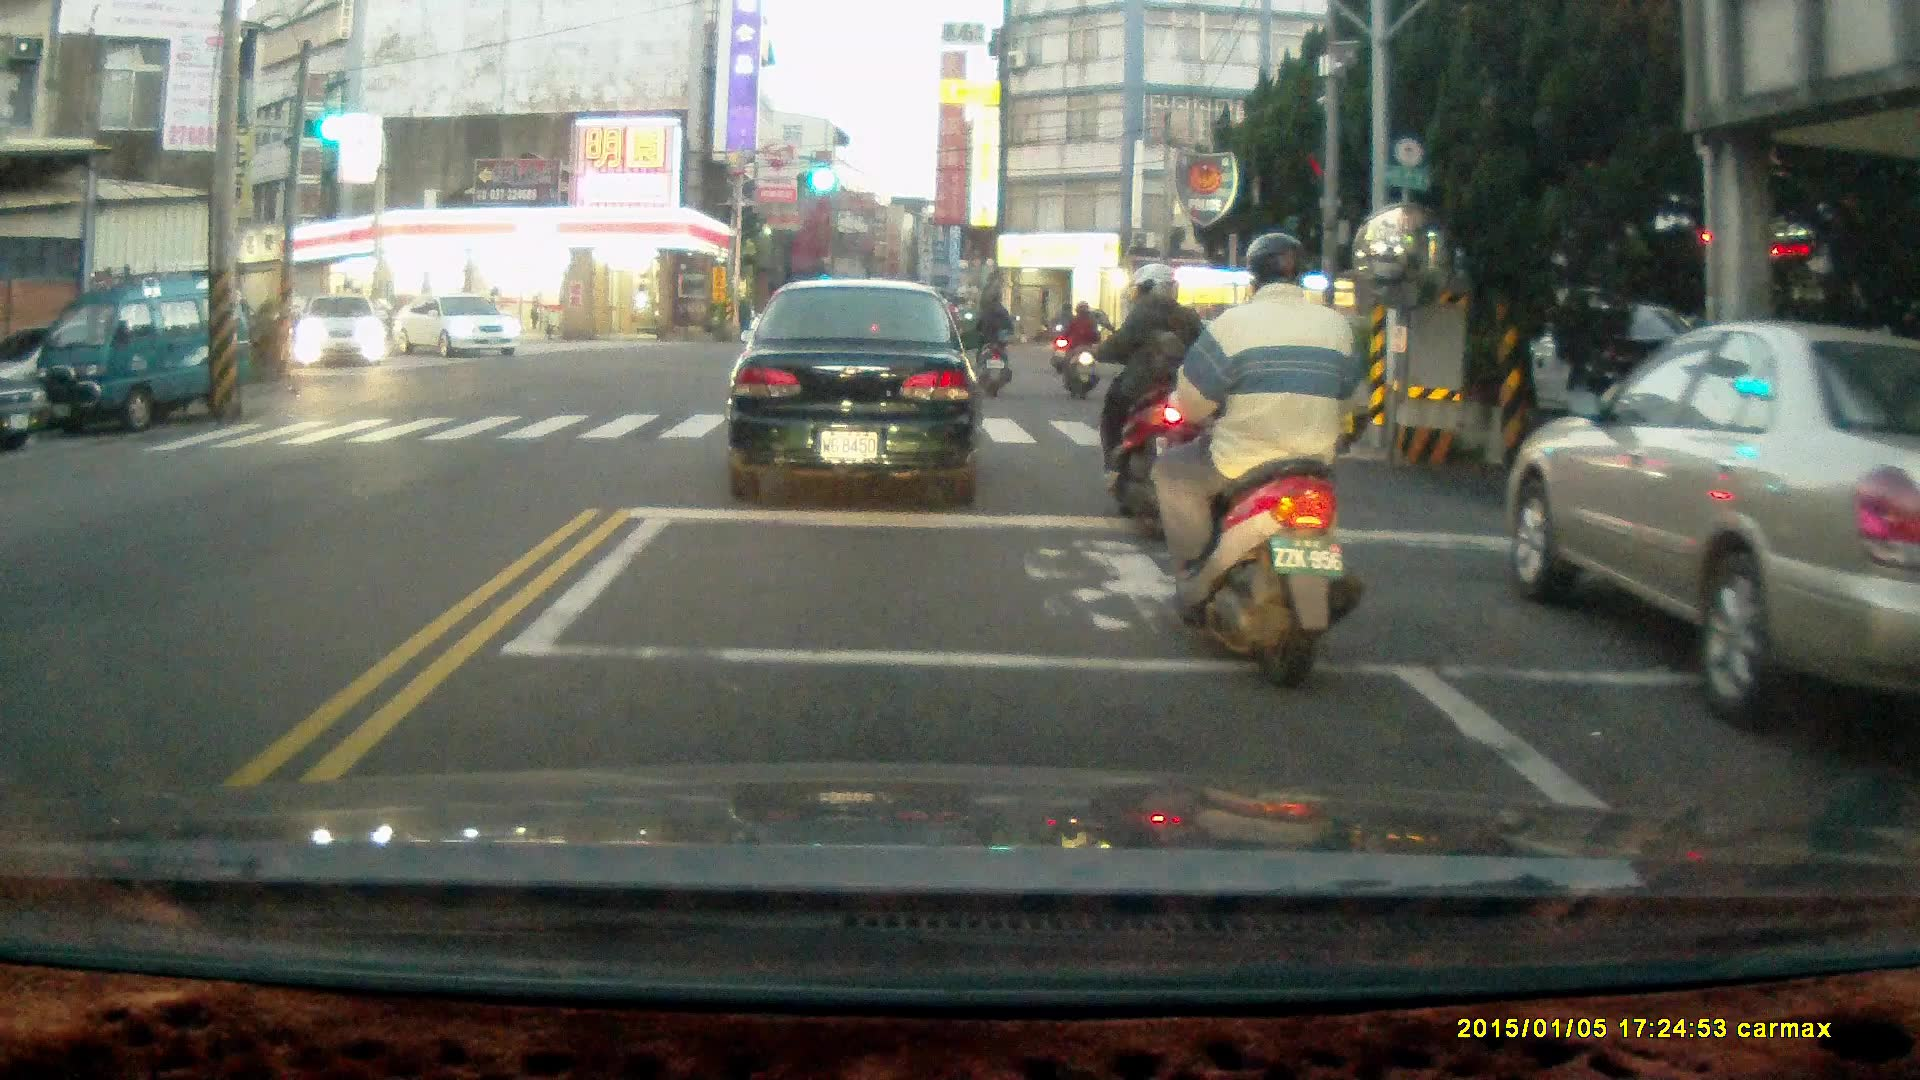rider: (1158, 232, 1376, 694), (1081, 257, 1217, 539), (962, 284, 1022, 396), (1057, 299, 1100, 401), (1045, 300, 1076, 375)
vehicle: (1504, 318, 1920, 737), (720, 276, 985, 505), (38, 266, 261, 433), (389, 293, 522, 362), (291, 293, 394, 369)
